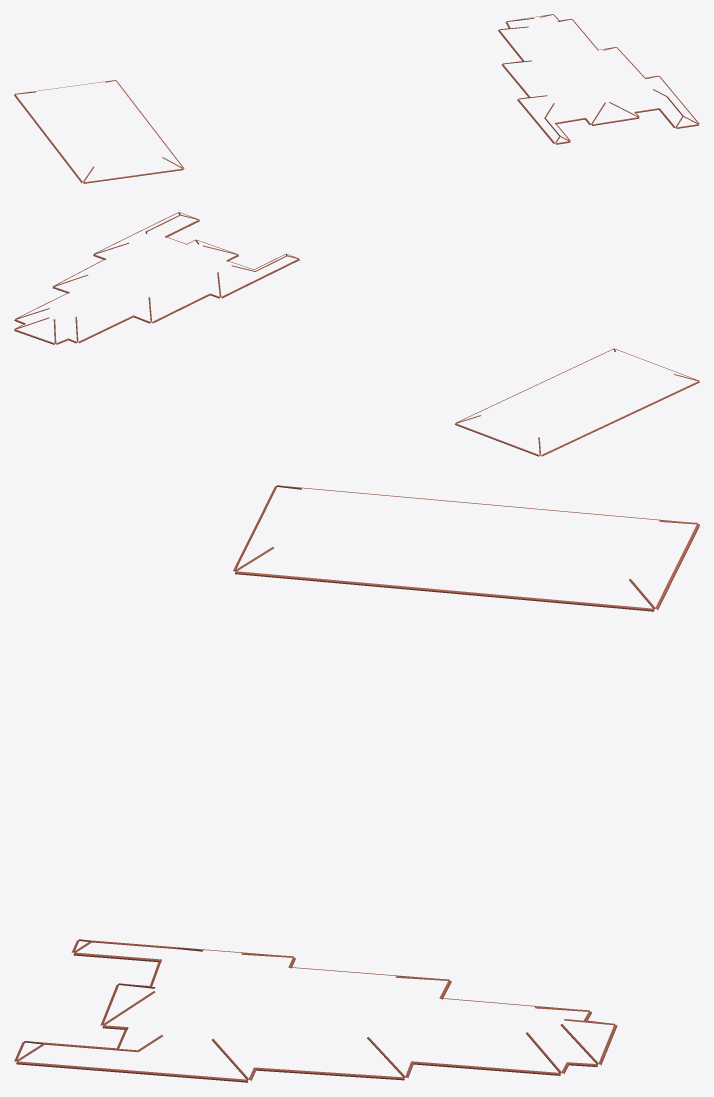
3 renders of one model, top to bottom at view 1: azimuth 30°, elevation 25°; view 2: azimuth 150°, elevation 25°; view 3: azimuth 270°, elevation 25°, orthographic. The views are drawn at different scales.
Parts seen in each view (by area): view 1: detail; view 2: detail; view 3: detail.
Boxes of the visible parts, x1,y1,x2,y2 form: detail: (14,14,699,183); detail: (14,212,699,456); detail: (14,485,699,1082).
Bounding box in the file's own units: 142 × 8.39 × 75.84.
